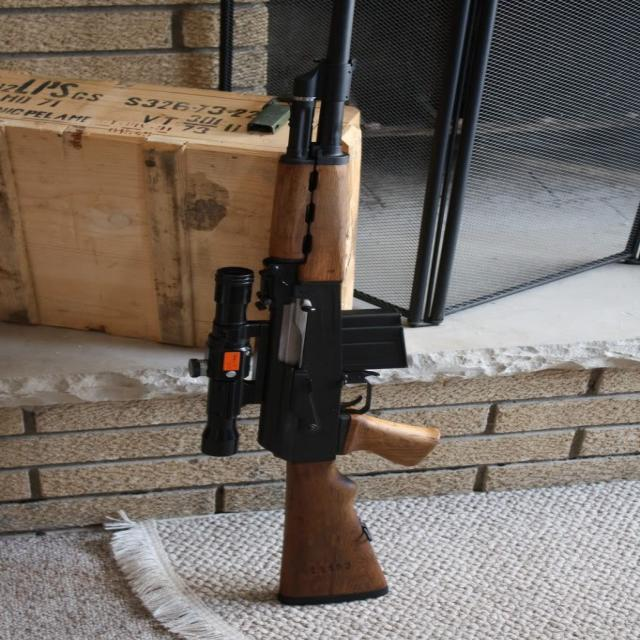firearm: (193, 0, 445, 606)
